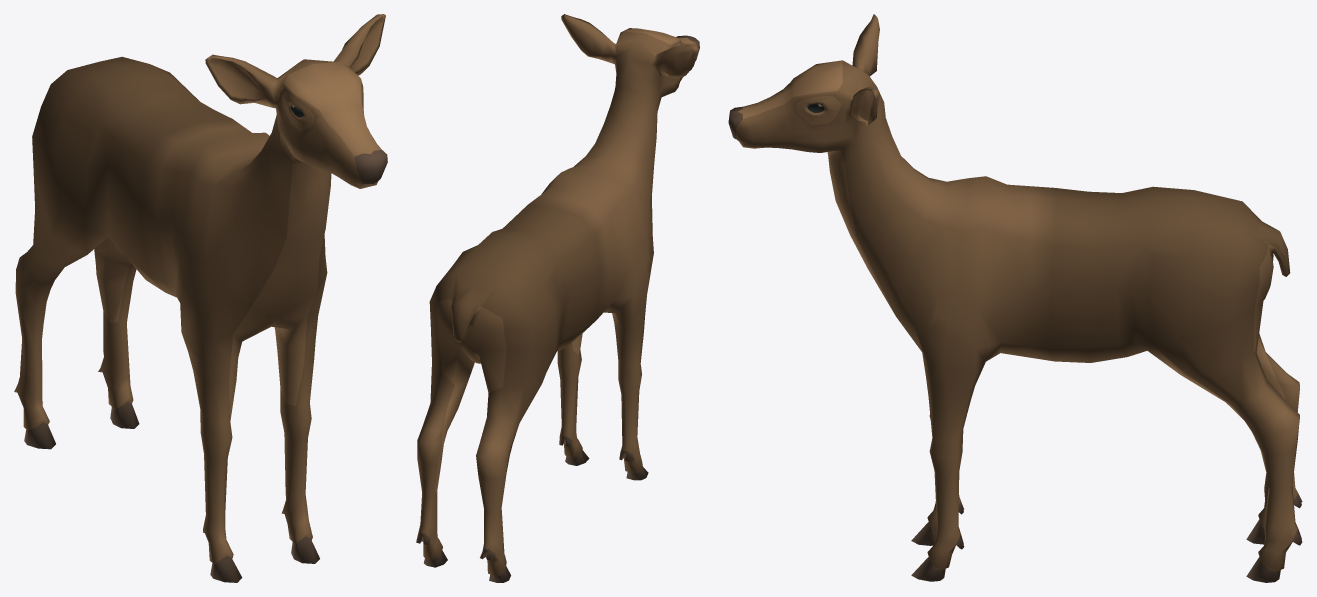
Rendered from deer-dark-back.glb.
3 views of the same model, side by side, from view 1: azimuth 30°, elevation 25°; view 2: azimuth 150°, elevation 25°; view 3: azimuth 270°, elevation 25° (orthographic). The views are drawn at different scales.
Parts seen in each view (by area): view 1: deer-dark-back runtime mesh; view 2: deer-dark-back runtime mesh; view 3: deer-dark-back runtime mesh.
Part boxes in pixels (<box>): deer-dark-back runtime mesh: <box>14,14,387,582</box>; deer-dark-back runtime mesh: <box>416,14,699,582</box>; deer-dark-back runtime mesh: <box>728,14,1302,582</box>.
Bounding box in the file's own units: 0.495 × 1.45 × 1.49.
